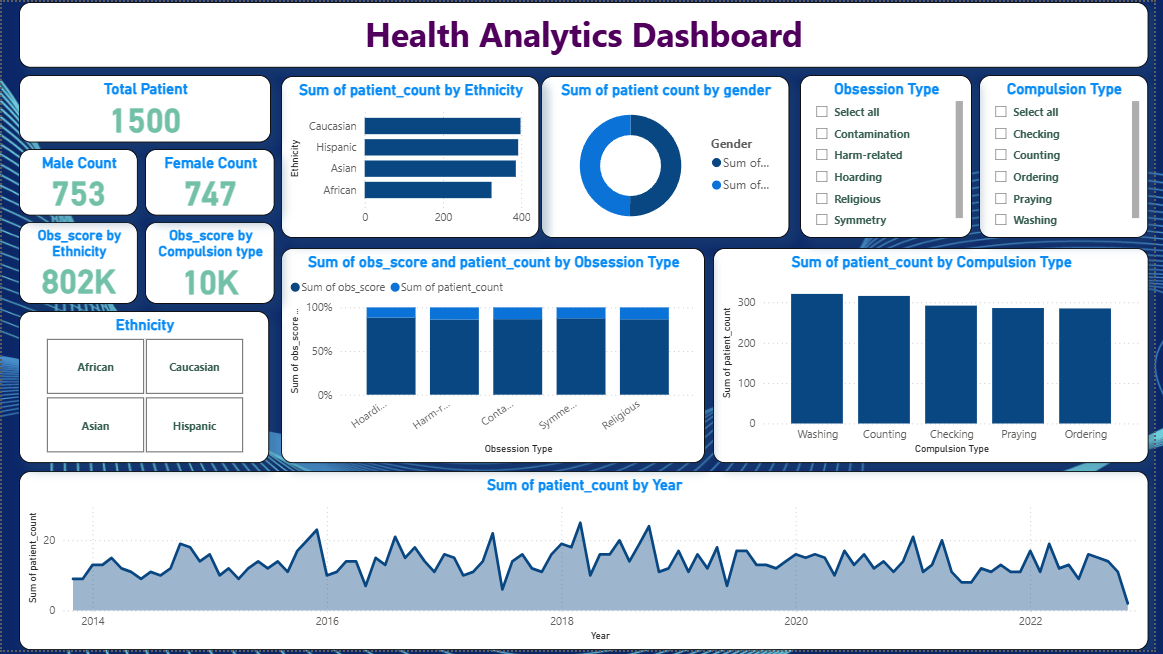

What the dashboard file says about the page in this screenshot:
{"tool":"powerbi","page":{"name":"Page 1","canvas":[1280,720],"ordinal":0},"visuals":[{"type":"textbox","box":[19,0,1255,73],"z":0},{"type":"lineChart","title":"Sum of patient_count by Year","fields":{"Y":["Sum(diagnosis mom.patient_count)"],"Category":["diagnosis mom.month.Variation.Date Hierarchy.Year","diagnosis mom.month.Variation.Date Hierarchy.Quarter","diagnosis mom.month.Variation.Date Hierarchy.Month","diagnosis mom.month.Variation.Date Hierarchy.Day"]},"box":[19,521,1255,199],"z":1000},{"type":"donutChart","title":"Sum of patient count by gender","fields":{"Y":["Sum(gender.Male)","Sum(gender.Female)"]},"box":[599,82,276,180],"z":2000},{"type":"columnChart","fields":{"Y":["Sum(compulsion_type.patient_count)"],"Category":["compulsion_type.Compulsion Type"]},"box":[790,273,484,239],"z":3000},{"type":"hundredPercentStackedColumnChart","title":"Sum of obs_score and patient_count by Obsession Type","fields":{"Y":["Sum(obs_type.obs_score)","Sum(obs_type.patient_count)"],"Category":["obs_type.Obsession Type"]},"box":[310,273,471,239],"z":4000},{"type":"clusteredBarChart","fields":{"Category":["ethnicity.Ethnicity"],"Y":["Sum(ethnicity.patient_count)"]},"box":[310,82,287,180],"z":5000},{"type":"card","title":"Obs_score by Ethnicity","fields":{"Values":["Sum(ethnicity.obs_score)"]},"box":[19,244,132,89],"z":6000},{"type":"card","title":"Total Patient","fields":{"Values":["Sum(diagnosis mom.patient_count)"]},"box":[17,81,280,75],"z":7000},{"type":"card","title":"Obs_score by Compulsion type","fields":{"Values":["Sum(compulsion_type.obs_score)"]},"box":[158,244,137,91],"z":8000},{"type":"card","title":"Male Count","fields":{"Values":["Sum(gender.Male)"]},"box":[19,163,132,75],"z":9000},{"type":"card","title":"Female Count","fields":{"Values":["Sum(gender.Female)"]},"box":[160,163,137,75],"z":10000},{"type":"slicer","title":"Ethnicity","fields":{"Values":["ethnicity.Ethnicity"]},"box":[19,343,278,169],"z":11000},{"type":"slicer","title":"Compulsion Type","fields":{"Values":["compulsion_type.Compulsion Type"]},"box":[1086,81,188,181],"z":12000},{"type":"slicer","title":"Obsession Type","fields":{"Values":["obs_type.Obsession Type"]},"box":[887,81,191,181],"z":13000}]}

Visuals, with their boxes in screenshot pixels (x1, y1, x2, y2), scaled from the page's 1280x720 canvas onto the 1163x654 screenshot:
textbox: BBox(17, 0, 1158, 66)
"Sum of patient_count by Year" lineChart: BBox(17, 473, 1158, 653)
"Sum of patient count by gender" donutChart: BBox(544, 74, 795, 238)
columnChart - Sum(compulsion_type.patient_count) x compulsion_type.Compulsion Type: BBox(718, 248, 1158, 465)
"Sum of obs_score and patient_count by Obsession Type" hundredPercentStackedColumnChart: BBox(282, 248, 710, 465)
clusteredBarChart - ethnicity.Ethnicity x Sum(ethnicity.patient_count): BBox(282, 74, 542, 238)
"Obs_score by Ethnicity" card: BBox(17, 222, 137, 302)
"Total Patient" card: BBox(15, 74, 270, 142)
"Obs_score by Compulsion type" card: BBox(144, 222, 268, 304)
"Male Count" card: BBox(17, 148, 137, 216)
"Female Count" card: BBox(145, 148, 270, 216)
"Ethnicity" slicer: BBox(17, 312, 270, 465)
"Compulsion Type" slicer: BBox(987, 74, 1158, 238)
"Obsession Type" slicer: BBox(806, 74, 979, 238)
